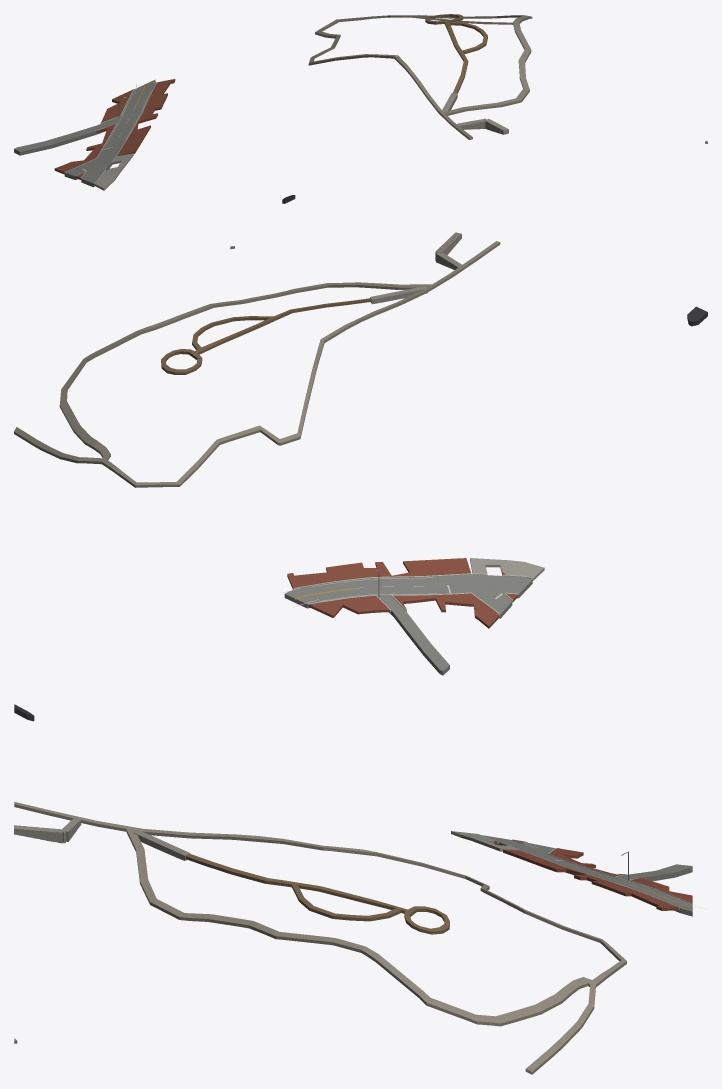
The model's file is 18-218893-118950.90d78aeb.glb.
The picture shows the model from 3 angles, top to bottom: view 1: azimuth 30°, elevation 25°; view 2: azimuth 150°, elevation 25°; view 3: azimuth 270°, elevation 25°; orthographic projection. The views are drawn at different scales.
Size of the model in its own units: 147 by 47.82 by 149.
